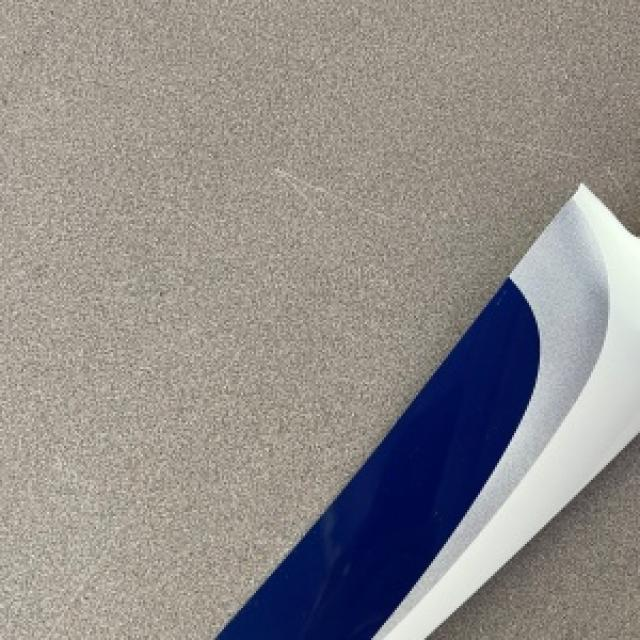healthy: (218, 183, 638, 638)
